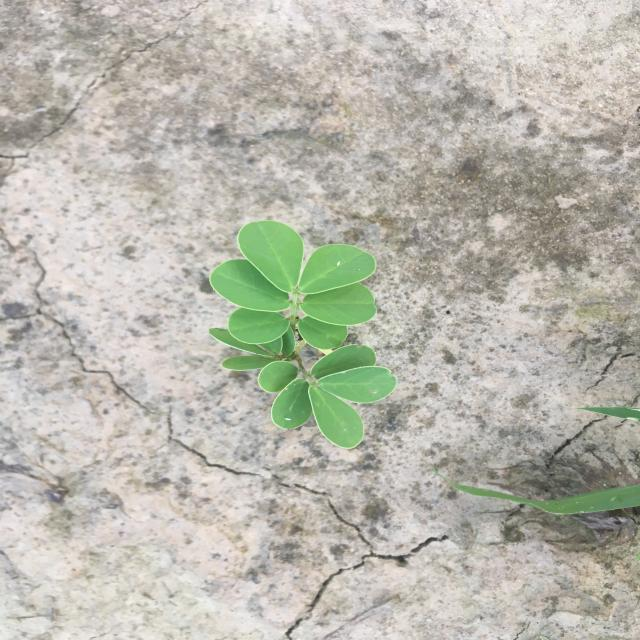Sicklepod: (207, 218, 399, 450)
